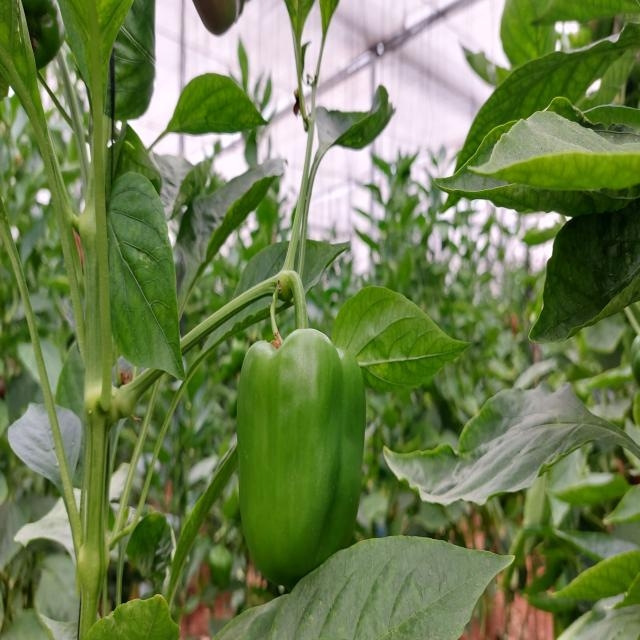Green--Not-ready-to-harvest: (237, 328, 366, 594)
